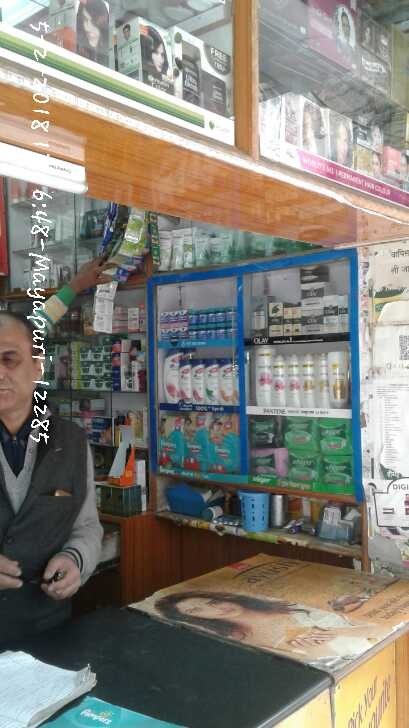vicks: (159, 301, 240, 341)
